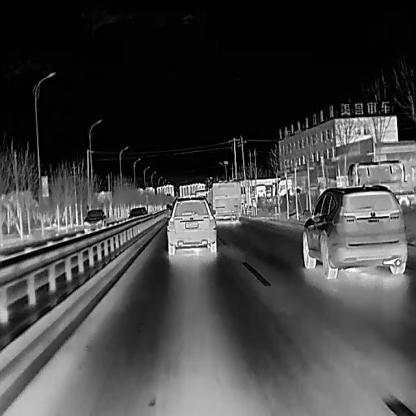bus: (206, 180, 241, 220)
car: (300, 181, 408, 280), (164, 195, 216, 255), (82, 208, 106, 235), (126, 206, 148, 225)
truck: (339, 160, 415, 206), (276, 178, 292, 200), (254, 184, 266, 206)
